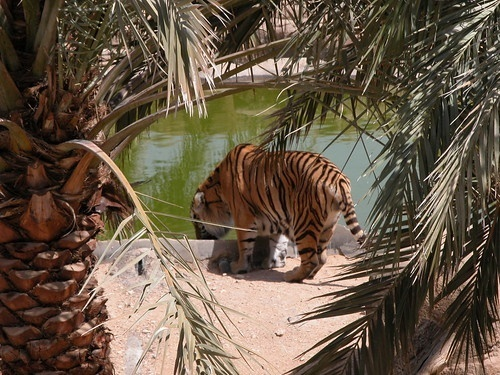tigre: (189, 142, 373, 282)
